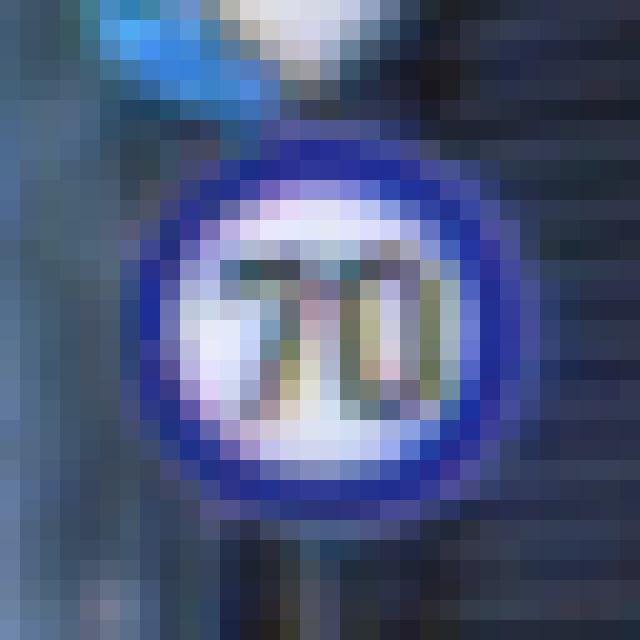SPEED LIMIT 70: (121, 133, 549, 556)
